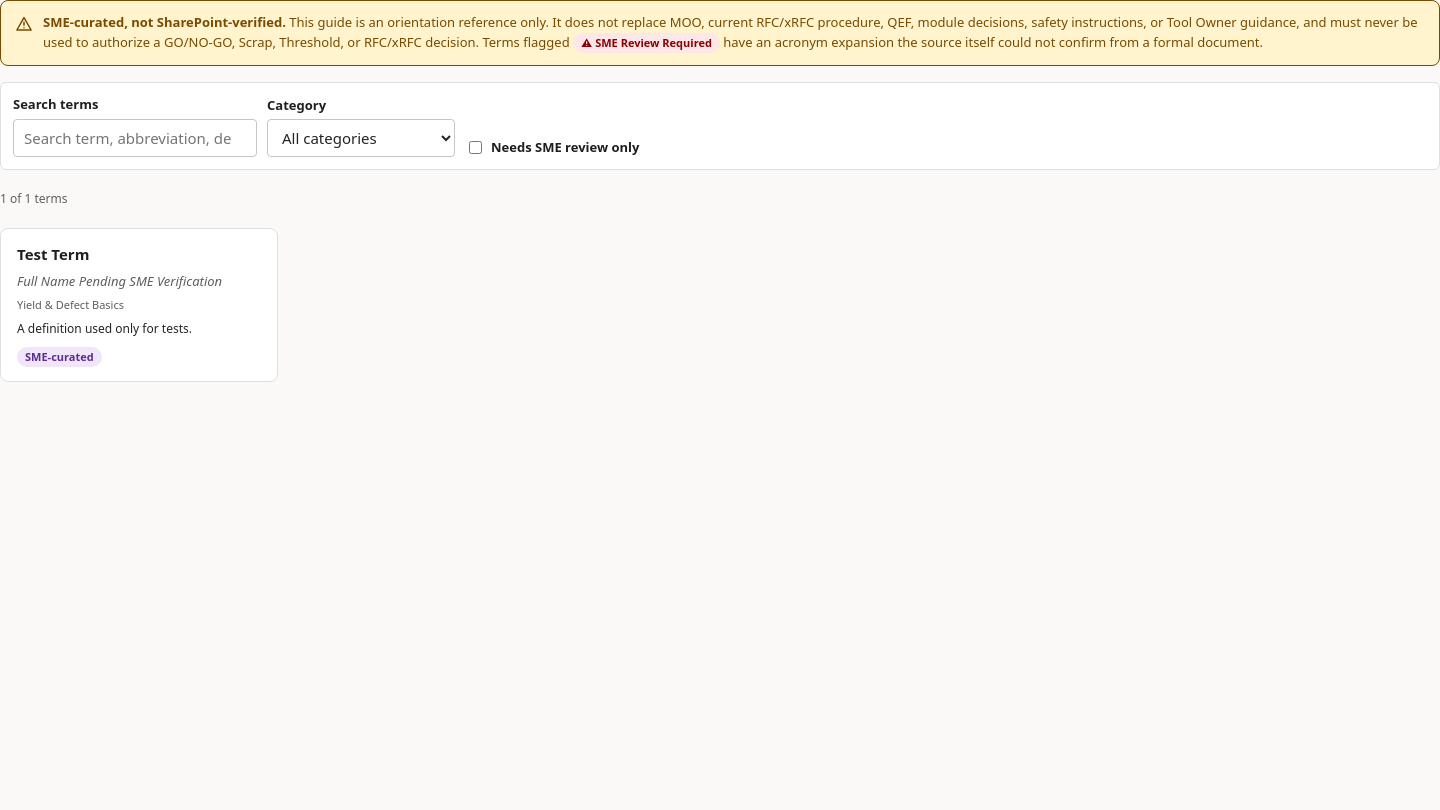
Scenario: SurvivalGuideView › opens a detail view on click, showing definition and source
Click the button "Test Term" at coordinates (53, 254), box [0,228,278,382]
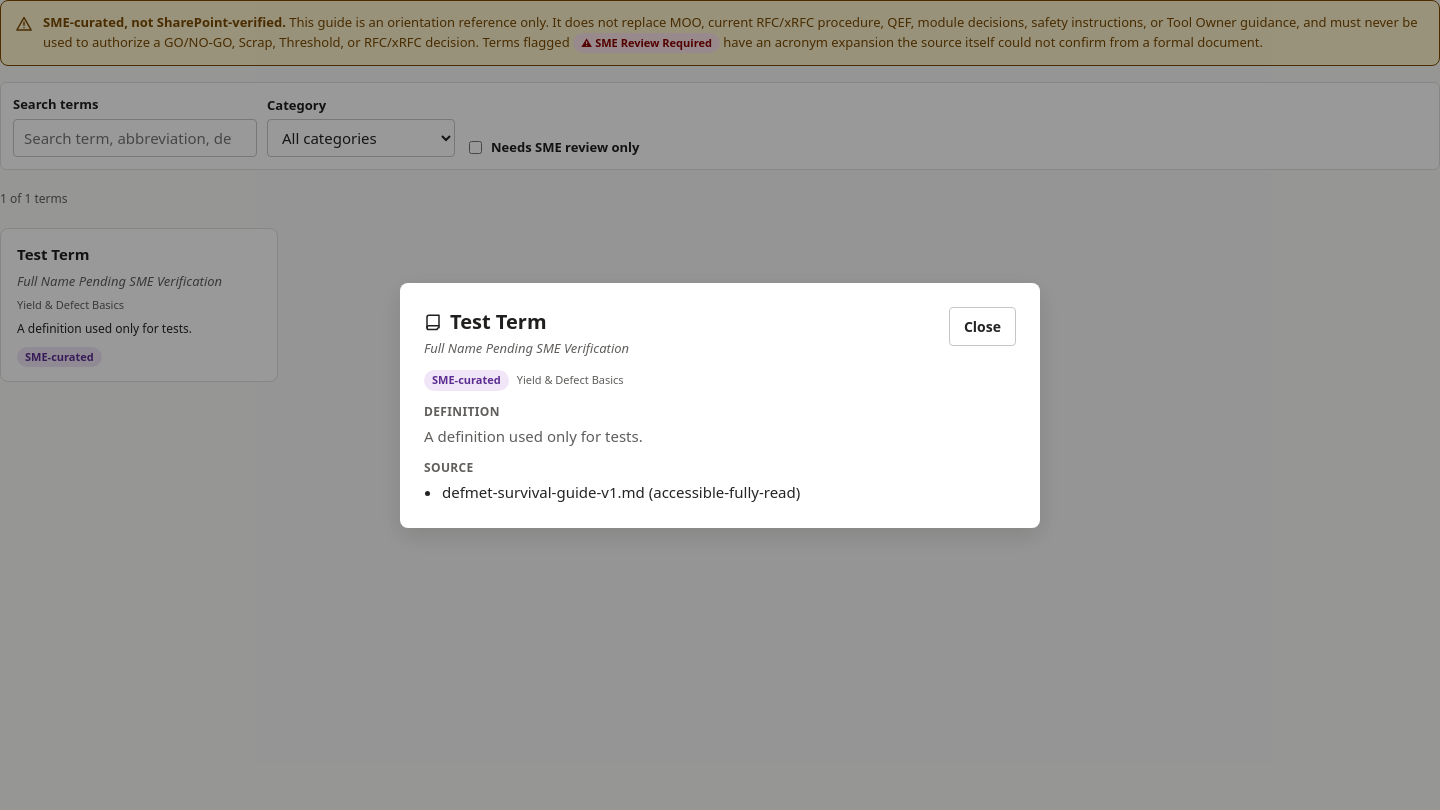
Result: the text "A definition used only for tests." is shown at [424,426,643,446]
Result: the list item "defmet-survival-guide-v1.md (accessible-fully-read)" is shown at [442,482,800,502]
